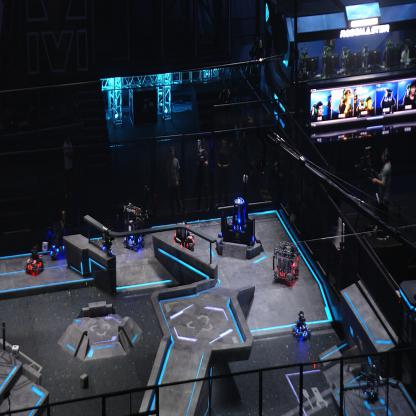car: (272, 238, 299, 284), (122, 202, 146, 251), (47, 219, 67, 258), (24, 243, 44, 278), (173, 219, 194, 250), (291, 310, 311, 342), (97, 238, 115, 265)
